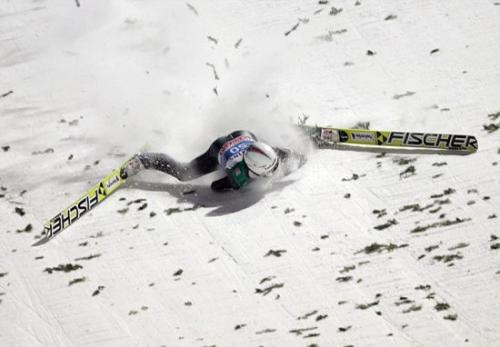falling: (117, 102, 374, 204)
